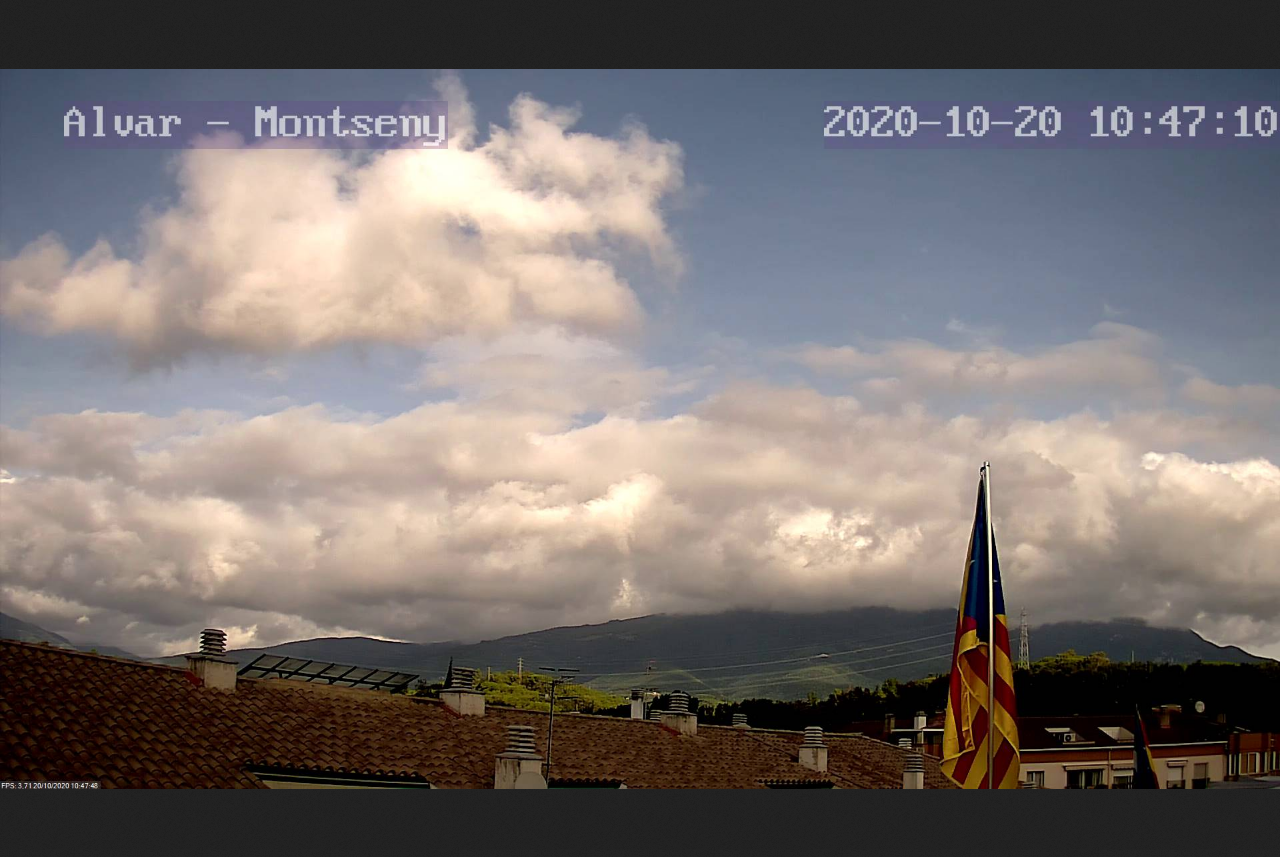no: (936, 478, 1026, 791)
